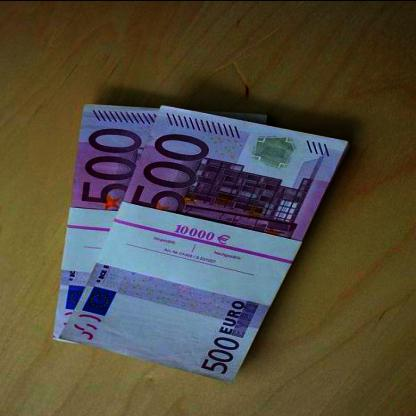euro_banknote: (57, 148, 353, 334)
